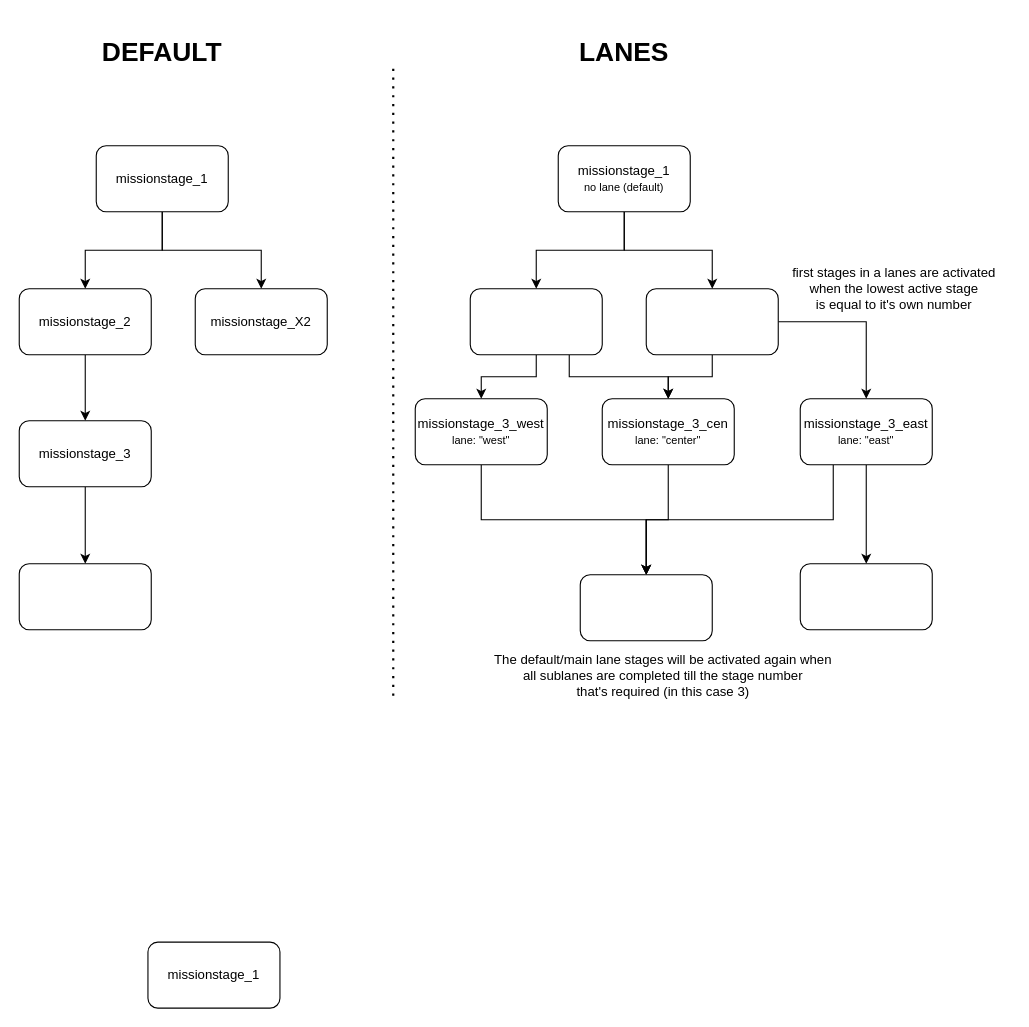
Some shapes in this 1029 by 1027 pixel diagram are drawn without their labels. The shapes that lost their labels are listed below. From the top down, each one's centre as x and y in pixels, then its label:
point 535,321: missionstage_2_west lane: "west"
point 711,321: missionstage_2_east lane: "east"
point 84,596: missionstage_4
point 645,607: missionstage_4 no lane (default)
point 865,596: missionstage_4_east lane: "east"
